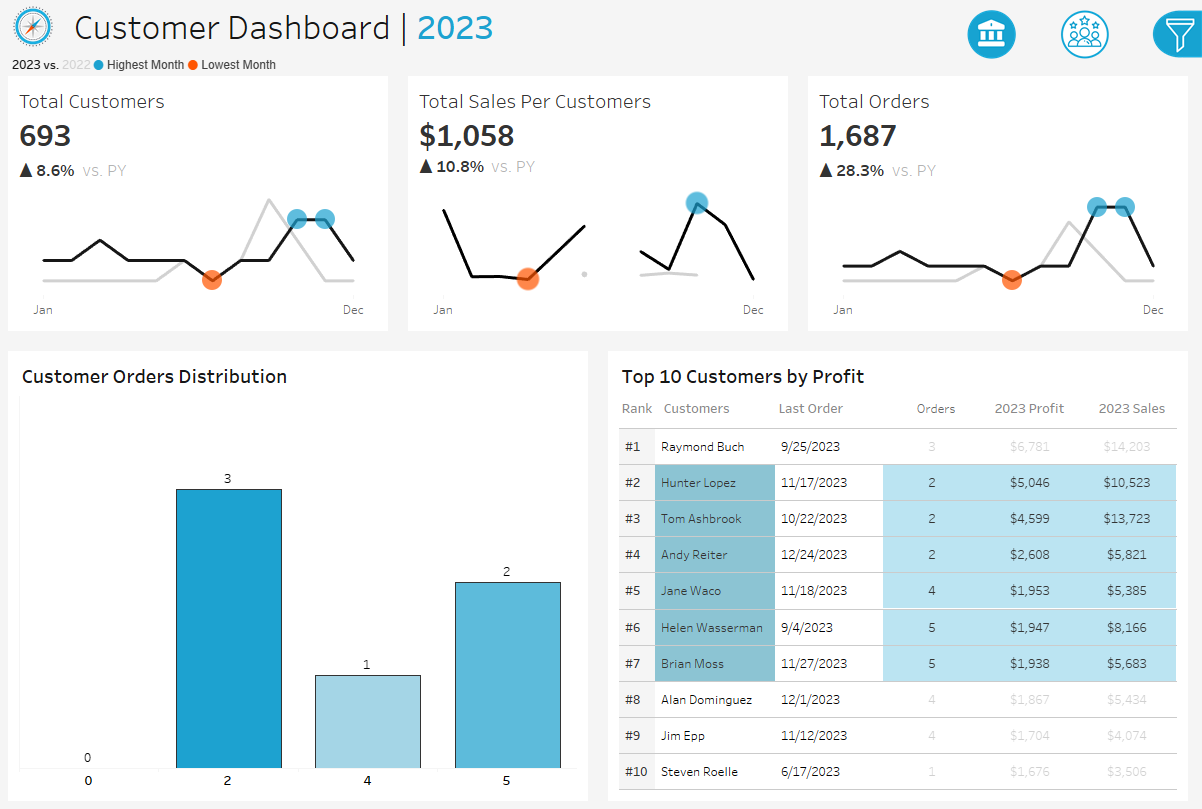

The dashboard page shown, as its layout file describes it:
{"tool":"tableau","page":{"name":"Customer Dashboard","canvas":[1200,800],"ordinal":0},"visuals":[{"type":"image","param":"C:/Users/sonabe/Downloads/Sales-Dashboard-Materials/Sales Dashboard Materials/Da","box":[0,0,69,50]},{"type":"text","box":[69,0,848,50]},{"type":"dashboard-object","box":[947,8,93,50]},{"type":"dashboard-object","box":[1040,8,92,50]},{"type":"blank","box":[970,10,223,69]},{"type":"worksheet","title":"Legend of KPI","mark":"Automatic","box":[0,50,1200,25]},{"type":"worksheet","title":"KPI Customers","mark":"Automatic","cols":["Order Date"],"box":[0,75,400,265]},{"type":"worksheet","title":"KPI Sales Per Customers","mark":"Automatic","rows":["Min/Max Sales (copy)_645140672944914455"],"cols":["Order Date"],"box":[400,75,400,265]},{"type":"worksheet","title":"KPI Orders","mark":"Automatic","cols":["Order Date"],"box":[800,75,400,265]},{"type":"text","box":[970,79,223,34]},{"type":"parameter","param":"[Parameters].[Parameter 1]","box":[970,113,223,52]},{"type":"blank","box":[970,165,223,32]},{"type":"text","box":[970,197,223,29]},{"type":"filter","title":"KPI Customers","param":"[federated.1t3rqbm1nkyzsf1ai52qu0gipv1d].[none:Category:nk]","box":[970,226,223,52]},{"type":"filter","title":"KPI Customers","param":"[federated.1t3rqbm1nkyzsf1ai52qu0gipv1d].[none:Sub-Category:nk]","box":[970,278,223,52]},{"type":"blank","box":[970,330,223,32]},{"type":"text","box":[17,357,566,34]},{"type":"text","box":[617,357,566,34]},{"type":"text","box":[970,362,223,29]},{"type":"worksheet","title":"Customer Distribution","mark":"Bar","rows":["CY Sales (copy)_645140672905826305"],"cols":["Calculation_645140672907522052"],"box":[17,391,566,402]},{"type":"text","box":[617,391,42,32]},{"type":"text","box":[659,391,115,32]},{"type":"text","box":[774,391,138,32]},{"type":"text","box":[912,391,78,32]},{"type":"filter","title":"KPI Customers","param":"[federated.1t3rqbm1nkyzsf1ai52qu0gipv1d].[none:Region:nk]","box":[970,391,223,52]},{"type":"text","box":[990,391,104,32]},{"type":"text","box":[1094,391,89,32]},{"type":"worksheet","title":"Top Customers","mark":"Automatic","rows":["Calculation_179581061499822087","Customer Name","Order Date"],"box":[617,423,566,370]},{"type":"filter","title":"KPI Customers","param":"[federated.1t3rqbm1nkyzsf1ai52qu0gipv1d].[none:State:nk]","box":[970,443,223,52]},{"type":"filter","title":"KPI Customers","param":"[federated.1t3rqbm1nkyzsf1ai52qu0gipv1d].[none:City:nk]","box":[970,495,223,52]}]}

Visuals, with their boxes in screenshot pixels (x1, y1, x2, y2), scaled from the page's 1200x800 canvas onto the 1202x809 screenshot:
image: [0, 0, 69, 51]
text: [69, 0, 919, 51]
dashboard-object: [949, 8, 1042, 59]
dashboard-object: [1042, 8, 1134, 59]
blank: [972, 10, 1195, 80]
"Legend of KPI" worksheet: [0, 51, 1201, 76]
"KPI Customers" worksheet: [0, 76, 401, 344]
"KPI Sales Per Customers" worksheet: [401, 76, 801, 344]
"KPI Orders" worksheet: [801, 76, 1201, 344]
text: [972, 80, 1195, 114]
parameter: [972, 114, 1195, 167]
blank: [972, 167, 1195, 199]
text: [972, 199, 1195, 229]
"KPI Customers" filter: [972, 229, 1195, 281]
"KPI Customers" filter: [972, 281, 1195, 334]
blank: [972, 334, 1195, 366]
text: [17, 361, 584, 395]
text: [618, 361, 1185, 395]
text: [972, 366, 1195, 395]
"Customer Distribution" worksheet (Bar marks): [17, 395, 584, 802]
text: [618, 395, 660, 428]
text: [660, 395, 775, 428]
text: [775, 395, 914, 428]
text: [914, 395, 992, 428]
"KPI Customers" filter: [972, 395, 1195, 448]
text: [992, 395, 1096, 428]
text: [1096, 395, 1185, 428]
"Top Customers" worksheet: [618, 428, 1185, 802]
"KPI Customers" filter: [972, 448, 1195, 501]
"KPI Customers" filter: [972, 501, 1195, 553]
